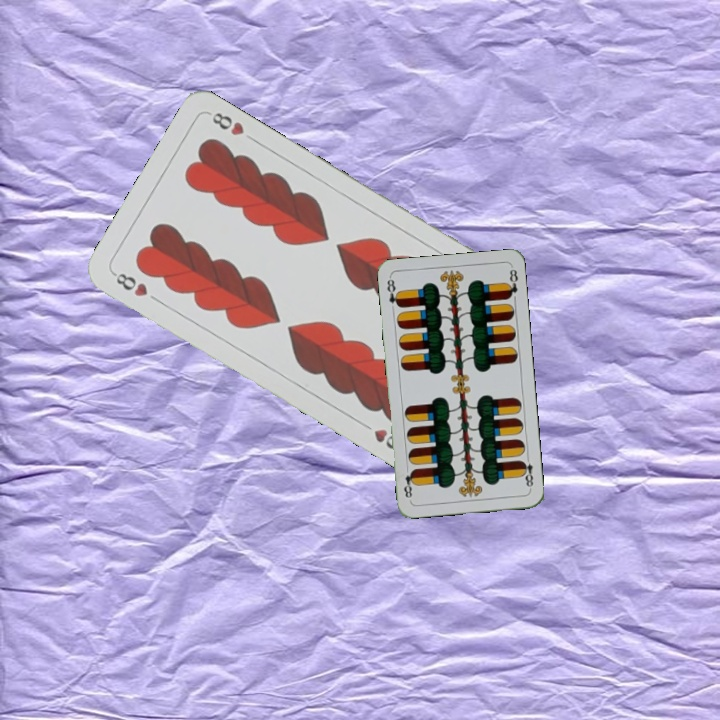E8: (517, 451, 536, 492), (383, 274, 403, 310)
H8: (108, 268, 151, 300)
